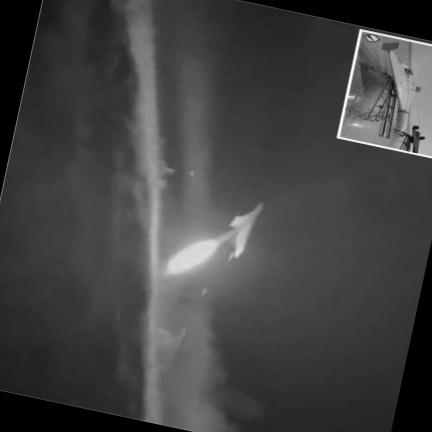Shahed: (382, 43, 420, 130), (228, 203, 262, 261)
